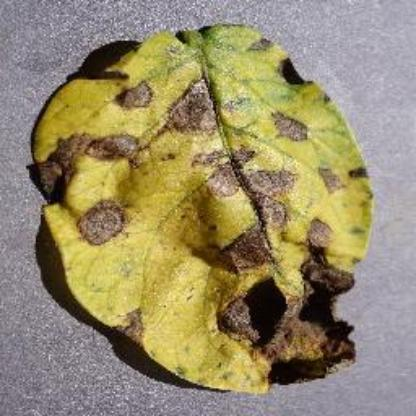Early-Blight: (27, 18, 388, 398)
